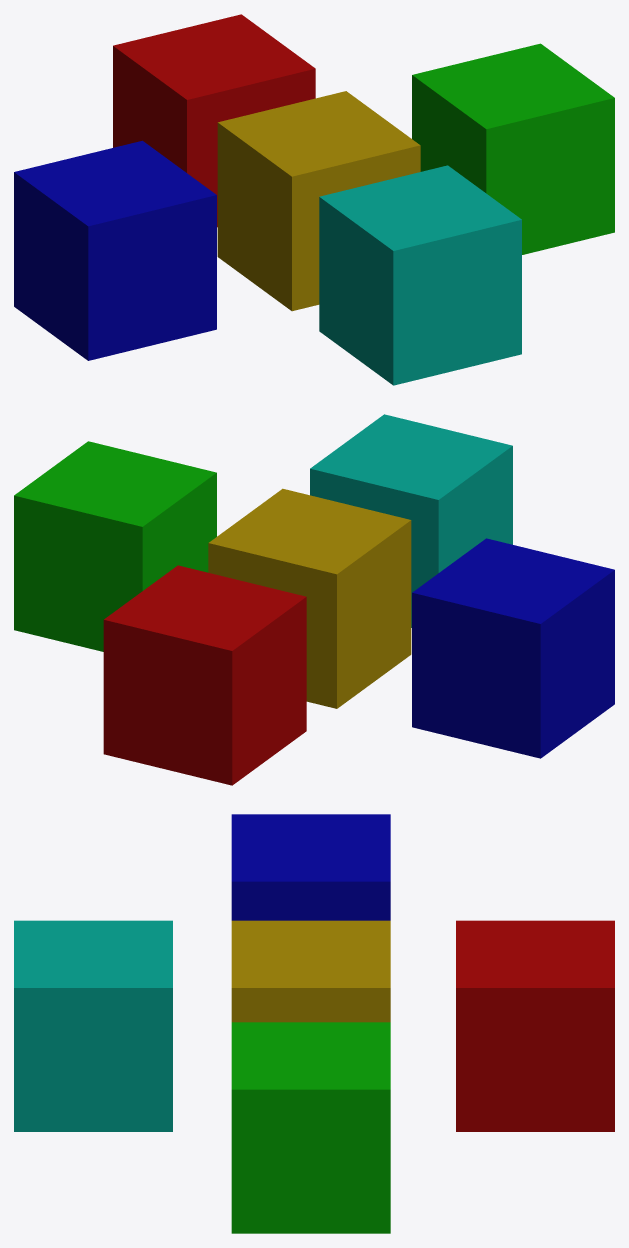
3 renders of one model, top to bottom at view 1: azimuth 30°, elevation 25°; view 2: azimuth 150°, elevation 25°; view 3: azimuth 270°, elevation 25°, orthographic. The views are drawn at different scales.
Parts seen in each view (by area): view 1: Cube.003, Cube.004, Cube.002, Cube, Cube.001; view 2: Cube.001, Cube.004, Cube.002, Cube, Cube.003; view 3: Cube.002, Cube.001, Cube.003, Cube.004, Cube.
Part boxes in pixels (bbox=[...]): Cube.003: bbox=[319, 165, 521, 385]; Cube.004: bbox=[14, 140, 216, 360]; Cube.002: bbox=[412, 43, 614, 254]; Cube: bbox=[217, 91, 420, 311]; Cube.001: bbox=[113, 14, 315, 227]; Cube.001: bbox=[103, 565, 306, 785]; Cube.004: bbox=[412, 538, 614, 758]; Cube.002: bbox=[14, 441, 216, 651]; Cube: bbox=[208, 488, 411, 708]; Cube.003: bbox=[310, 414, 512, 627]; Cube.002: bbox=[231, 1022, 390, 1233]; Cube.001: bbox=[456, 920, 614, 1131]; Cube.003: bbox=[14, 920, 172, 1131]; Cube.004: bbox=[231, 814, 390, 920]; Cube: bbox=[231, 920, 390, 1022].
Size of the model in its own units: 8.19 by 2 by 7.56.
